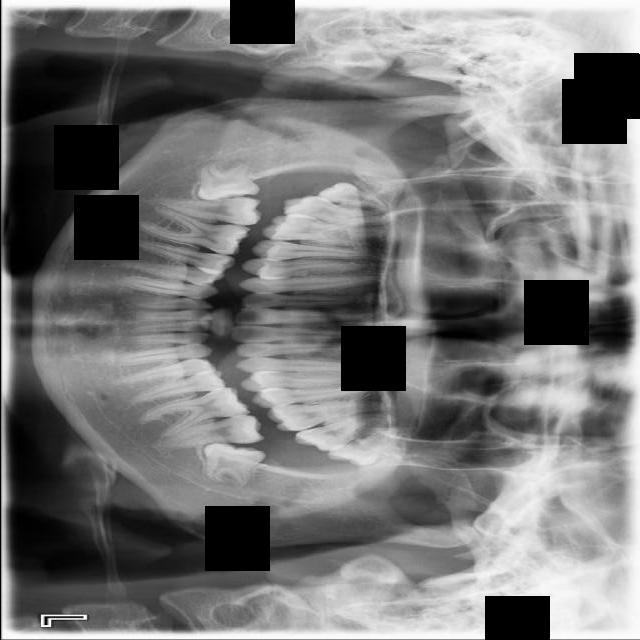3M ESPE Implant: (316, 178, 390, 212)
73: (80, 600, 90, 602)
BioHorizons Implant: (292, 404, 400, 460)
BioLife Implant: (325, 421, 410, 478)
Biomet 3i Implant: (199, 441, 267, 489)
Blue Sky Bio Implant: (155, 413, 264, 449)
Caries: (281, 191, 389, 231)
Implant: (150, 196, 262, 225)
Keystone Dental Implant: (191, 154, 260, 204)
